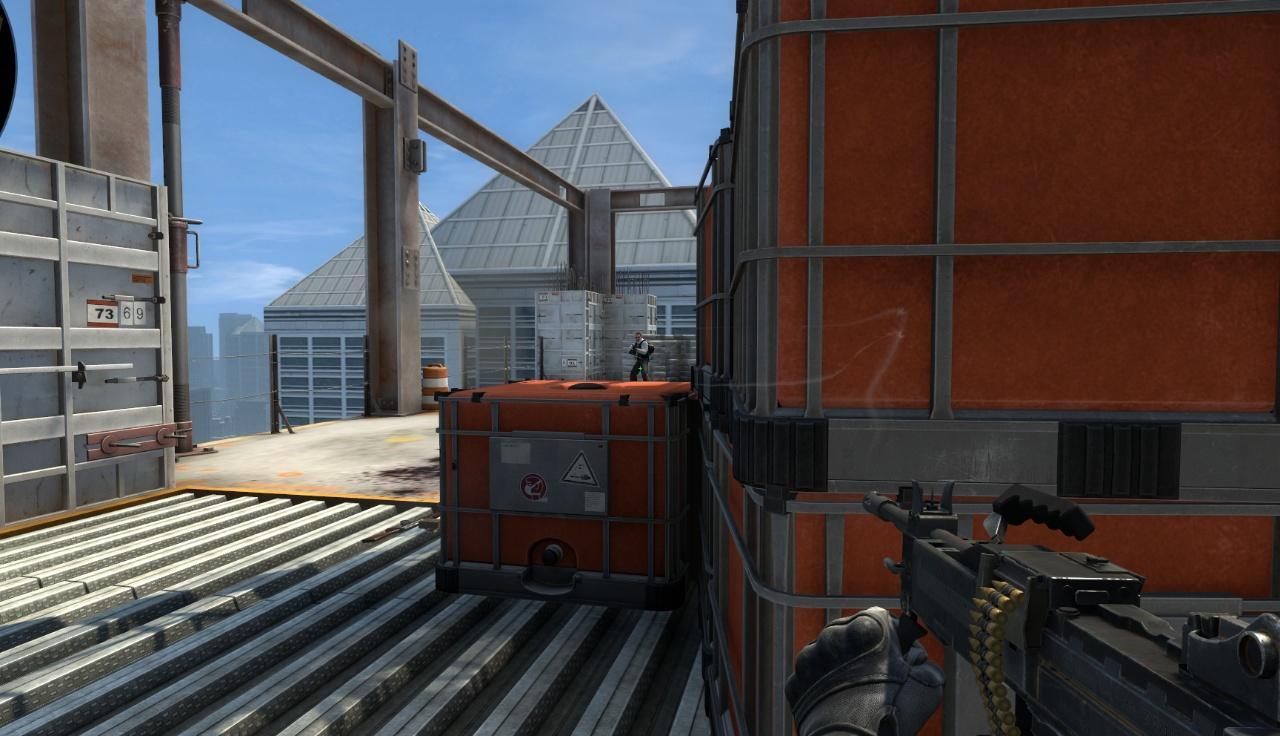rifle: (854, 475, 1280, 736)
tt: (632, 332, 649, 381)
tthead: (635, 333, 641, 342)
